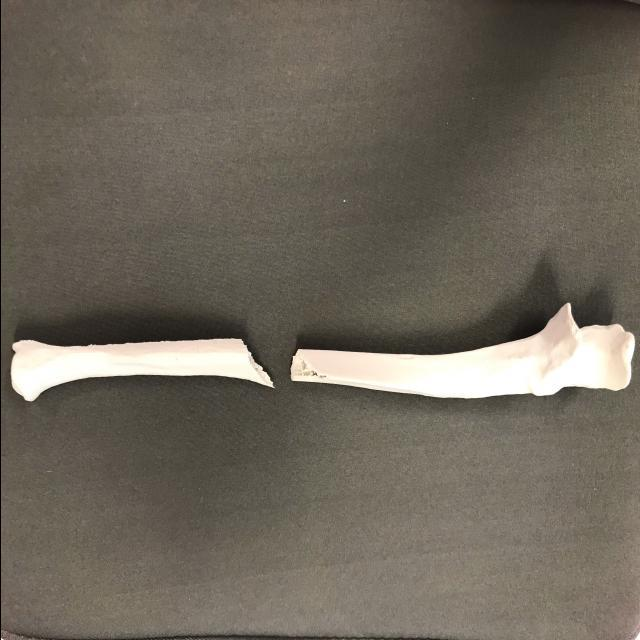bone: (288, 302, 640, 404), (6, 330, 272, 410)
